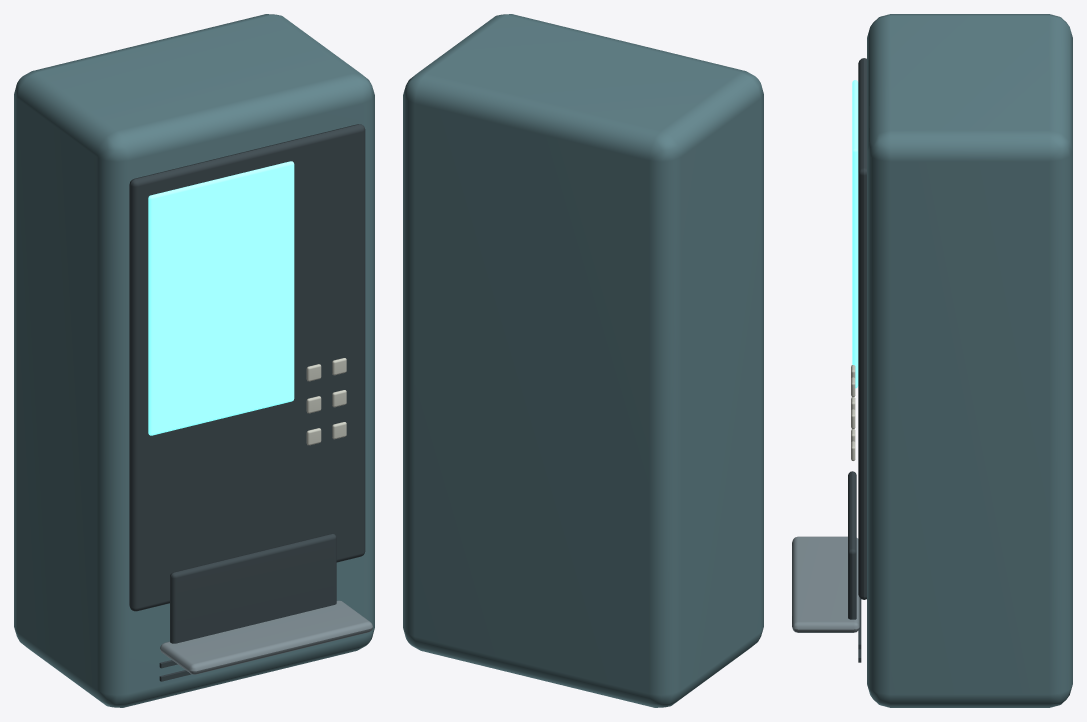
Rendered from vending-machine.glb.
The picture shows the model from 3 angles, left to right: view 1: azimuth 30°, elevation 25°; view 2: azimuth 150°, elevation 25°; view 3: azimuth 270°, elevation 25°; orthographic projection.
Parts seen in each view (by area): view 1: Vending cabinet, Front inset, Illuminated display, Dispenser, Collection lip; view 2: Vending cabinet; view 3: Vending cabinet, Collection lip, Front inset, Illuminated display, Dispenser.
Boxes of the visible parts, x1,y1,x2,y2 form: Vending cabinet: [14, 14, 374, 707]; Front inset: [129, 124, 365, 611]; Illuminated display: [148, 161, 294, 435]; Dispenser: [170, 533, 336, 643]; Collection lip: [160, 600, 372, 674]; Vending cabinet: [403, 14, 763, 707]; Vending cabinet: [867, 14, 1072, 707]; Collection lip: [792, 536, 859, 632]; Front inset: [858, 58, 866, 599]; Illuminated display: [852, 80, 858, 388]; Dispenser: [848, 471, 856, 619].
Size of the model in its own units: 1.08 by 2.16 by 0.955.
